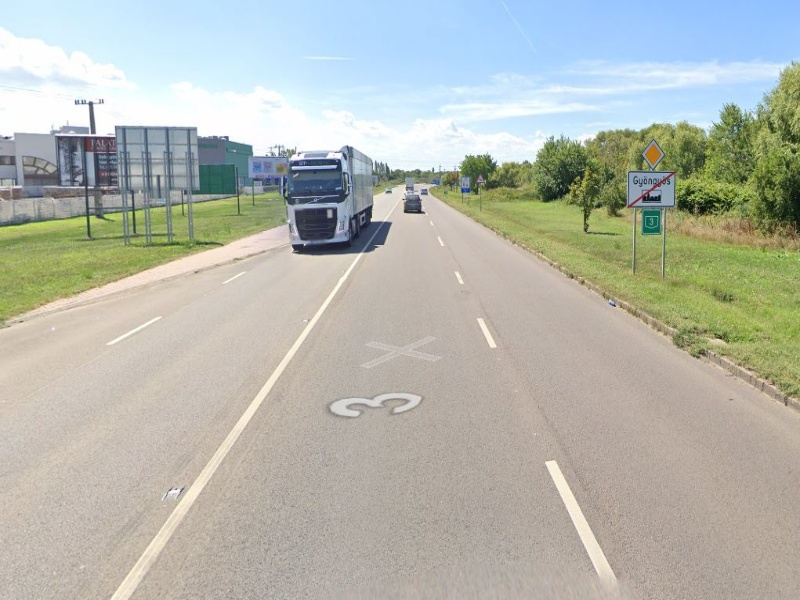fout: (638, 140, 669, 168)
